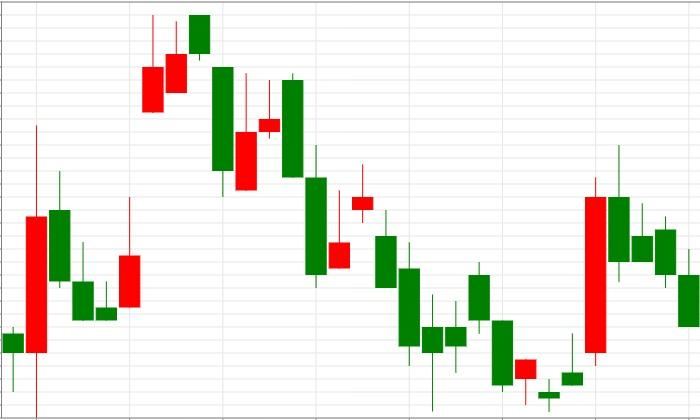morning_star_rise: (375, 209, 583, 411)
